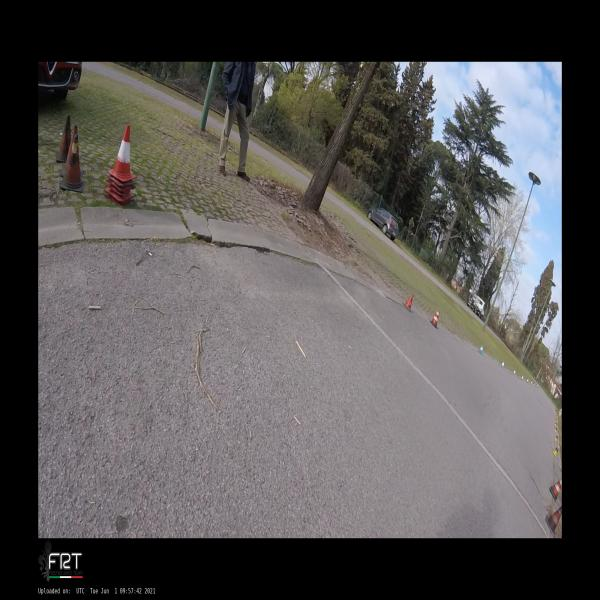blue_cone: (478, 344, 483, 355), (501, 361, 504, 368), (513, 370, 515, 376), (522, 375, 523, 380)
large_orange_cone: (546, 505, 562, 537), (550, 479, 562, 502), (430, 310, 439, 328)
orange_cone: (107, 126, 137, 182)
unknown_cone: (60, 134, 85, 192), (59, 125, 78, 176), (56, 115, 72, 162), (403, 291, 414, 312)
yellow_cone: (553, 445, 559, 458), (554, 435, 559, 442), (554, 426, 558, 432), (556, 422, 558, 426)
